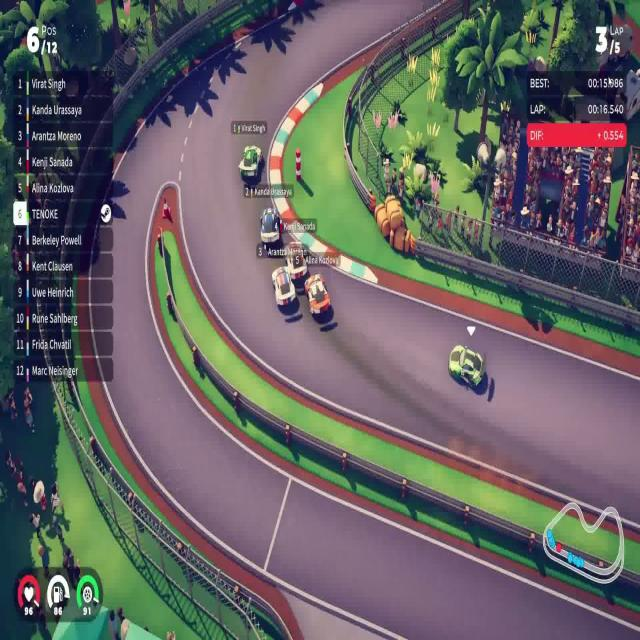car: (448, 342, 485, 390), (303, 273, 331, 320), (271, 265, 297, 310), (259, 206, 282, 247), (238, 143, 262, 182), (286, 239, 307, 282)
